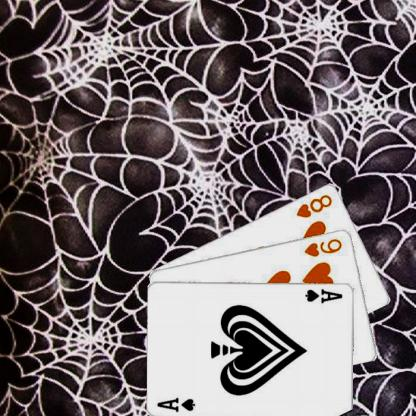8H: (294, 191, 334, 219)
9H: (302, 235, 343, 258)
AS: (154, 395, 196, 413), (303, 286, 344, 304)
